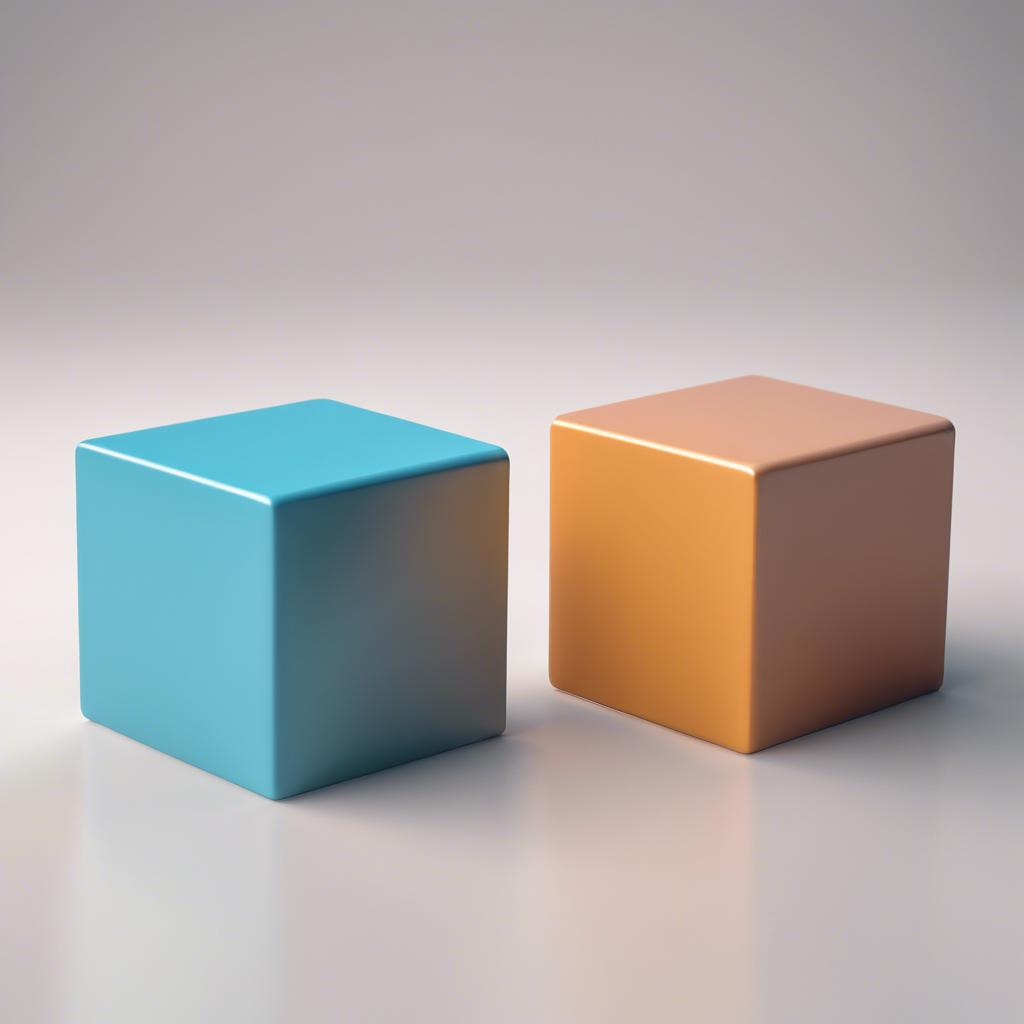cube: (73, 395, 510, 801), (547, 372, 955, 754)
